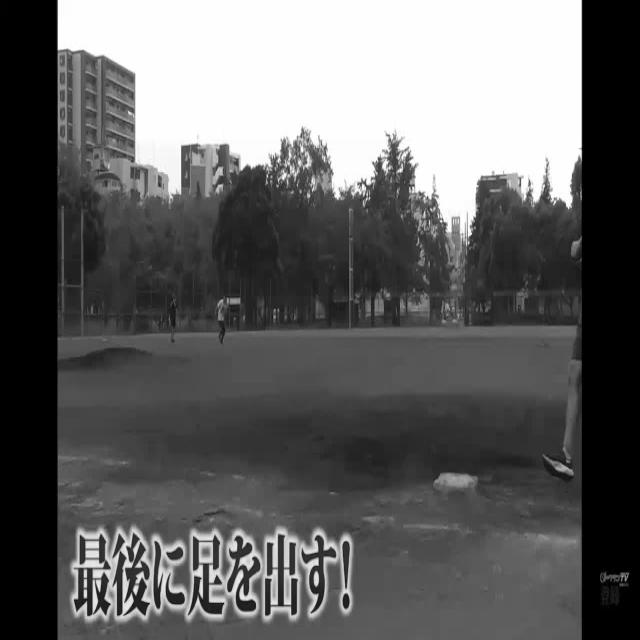base: (432, 473, 478, 491)
shoe: (545, 456, 574, 481)
